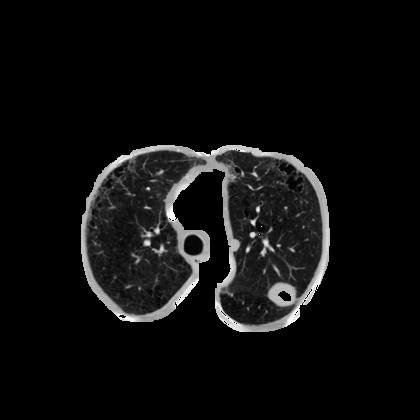PN: (230, 240, 240, 250)
